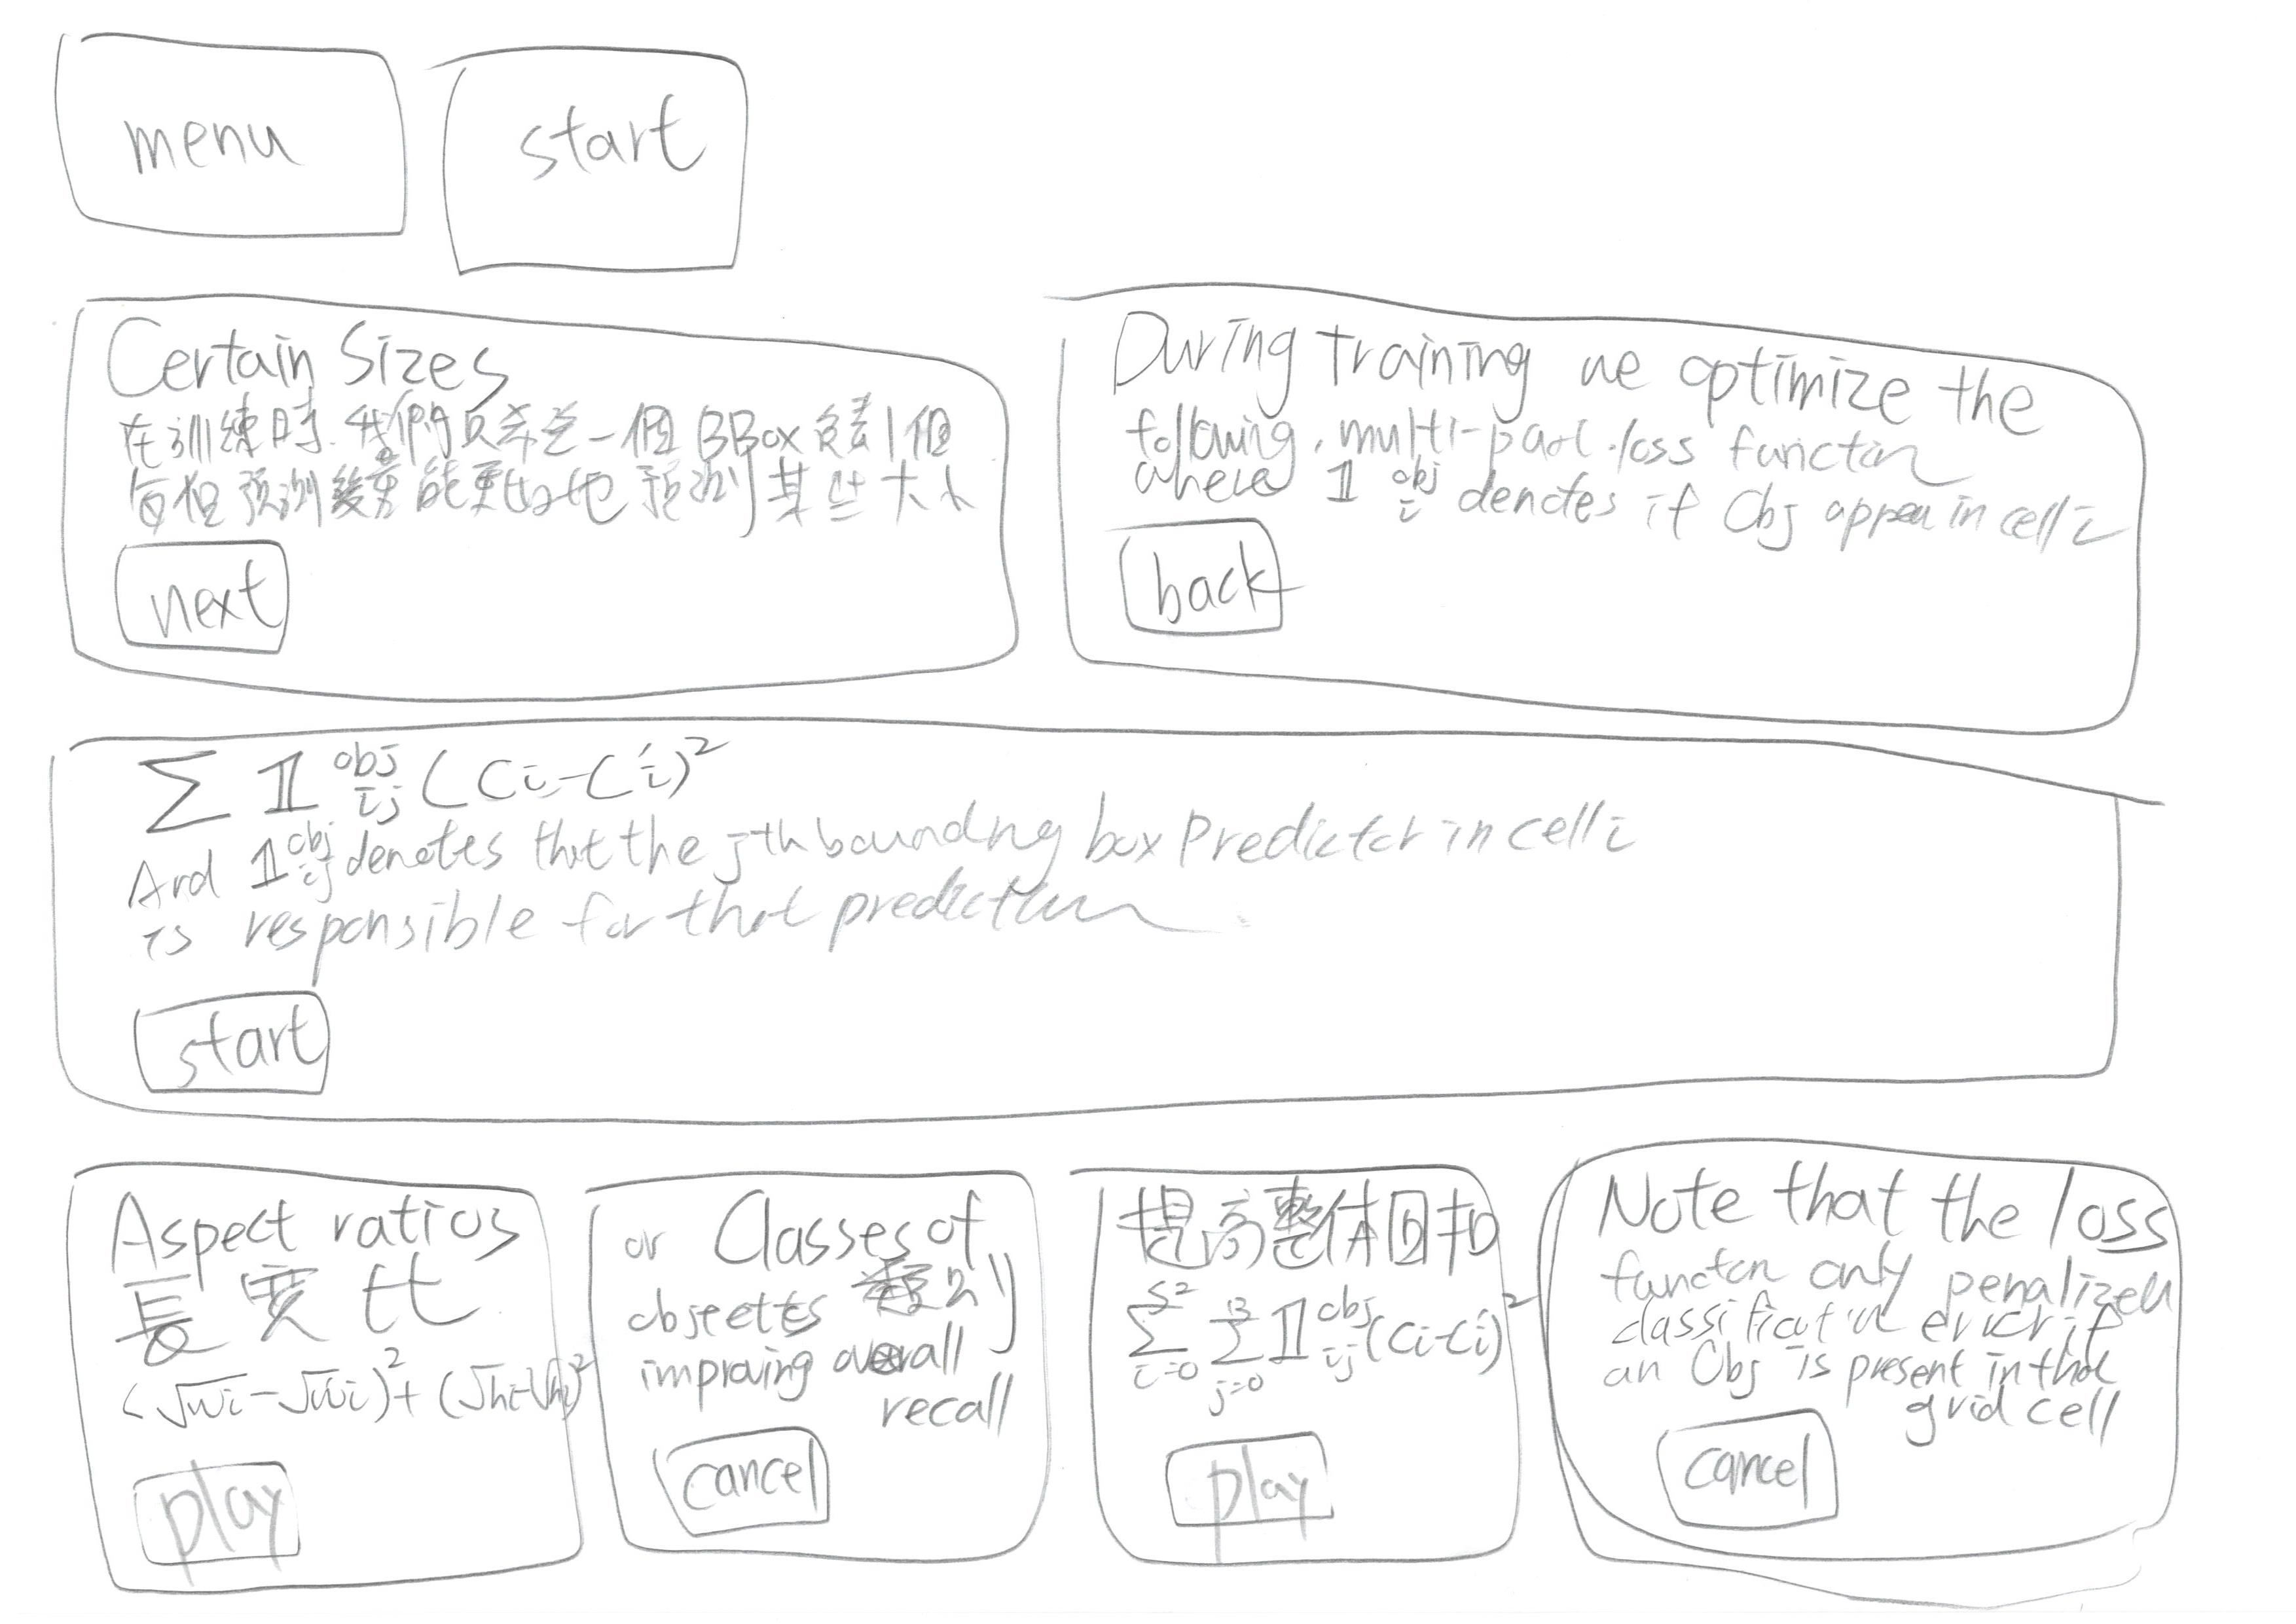back: (1071, 494, 1310, 649)
cancel: (1616, 1392, 1862, 1547), (633, 1424, 877, 1548)
double: (1032, 257, 2180, 763), (33, 262, 1053, 705)
menu: (32, 21, 440, 262)
play: (1146, 1401, 1364, 1555), (109, 1448, 336, 1582)
quadruple: (1521, 1118, 2229, 1599), (18, 1144, 608, 1620), (577, 1130, 1083, 1613), (1039, 1128, 1545, 1612)
row: (5, 246, 2245, 782), (0, 1111, 2275, 1624), (0, 654, 2242, 1081), (7, 12, 2263, 301)
single: (18, 689, 2212, 1146)
small-title: (1062, 316, 1920, 422), (97, 1185, 520, 1346), (1150, 1186, 1477, 1380), (621, 1200, 1027, 1329), (98, 745, 745, 819), (1616, 1171, 2152, 1255), (105, 316, 517, 415)
start: (396, 14, 805, 297), (104, 963, 371, 1114)
text: (123, 801, 1691, 965), (1123, 397, 2050, 522), (107, 427, 970, 529), (1584, 1244, 2161, 1394), (100, 1355, 564, 1424), (645, 1350, 1028, 1431), (1890, 1381, 2150, 1475)
